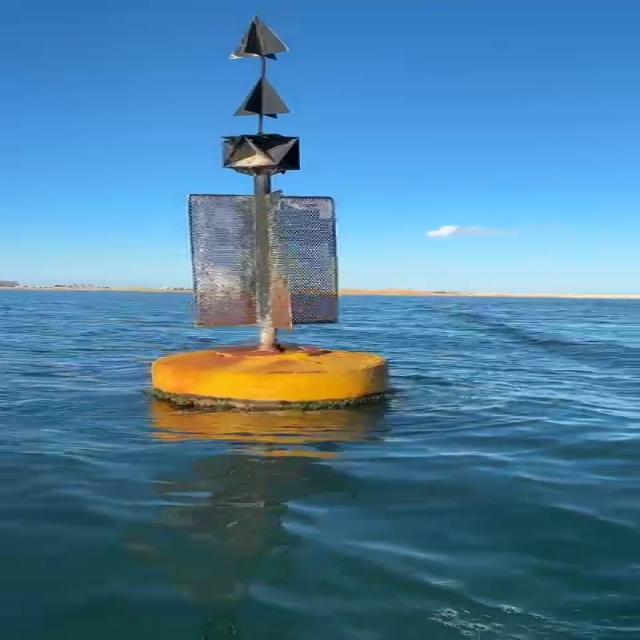marque: (154, 21, 391, 410)
